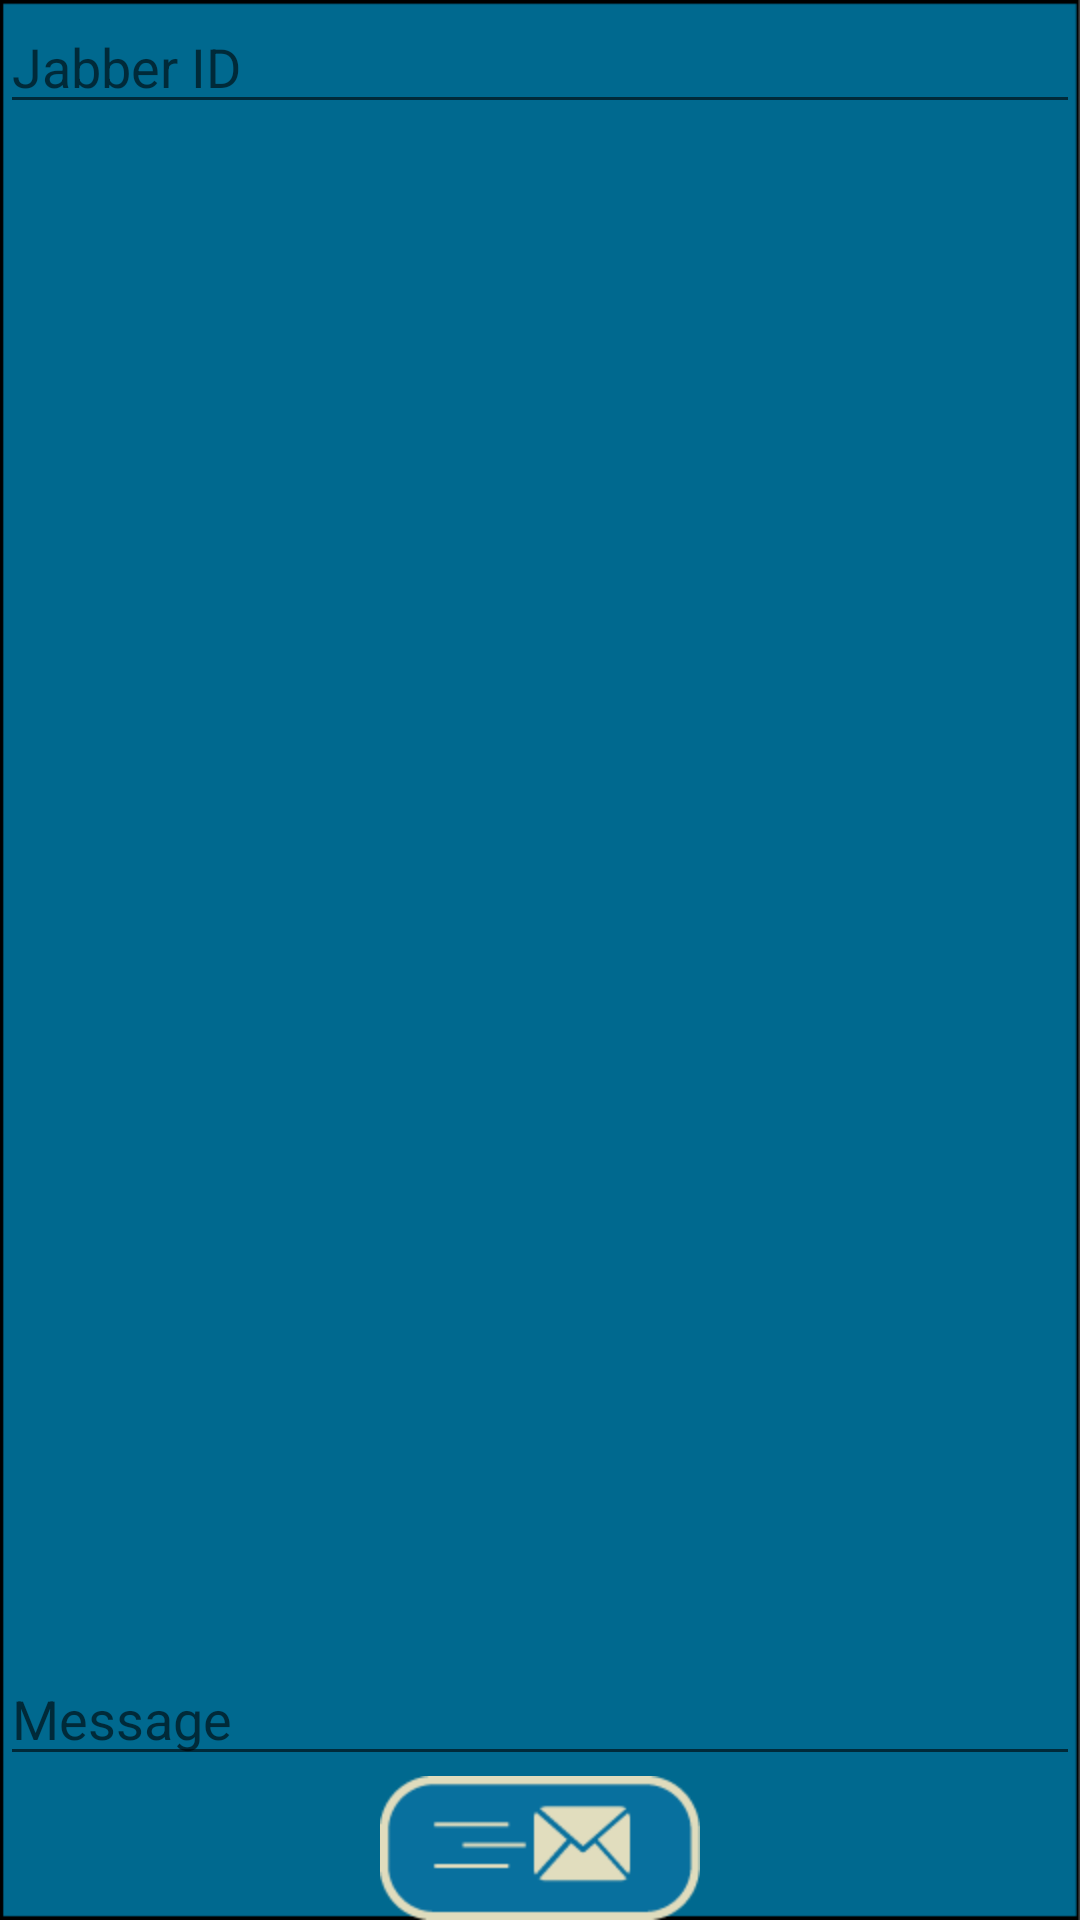

Where icons sit on this 1080*1920 app screen, as (x1, y1, x2, y2):
masend: (380, 1776, 700, 1920)
